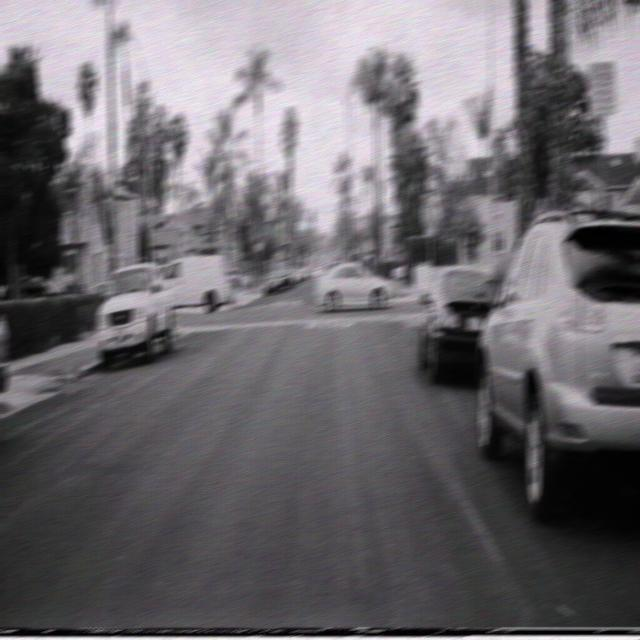stop_sign: (421, 196, 438, 228)
